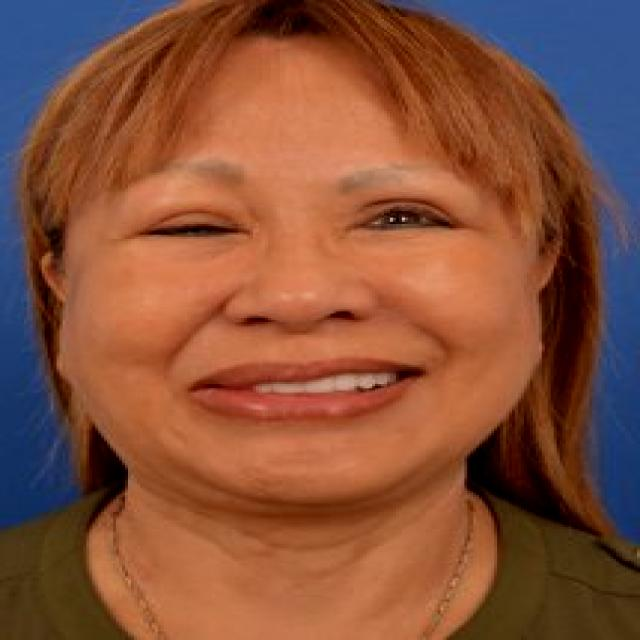stroke_face: (86, 97, 505, 488)
